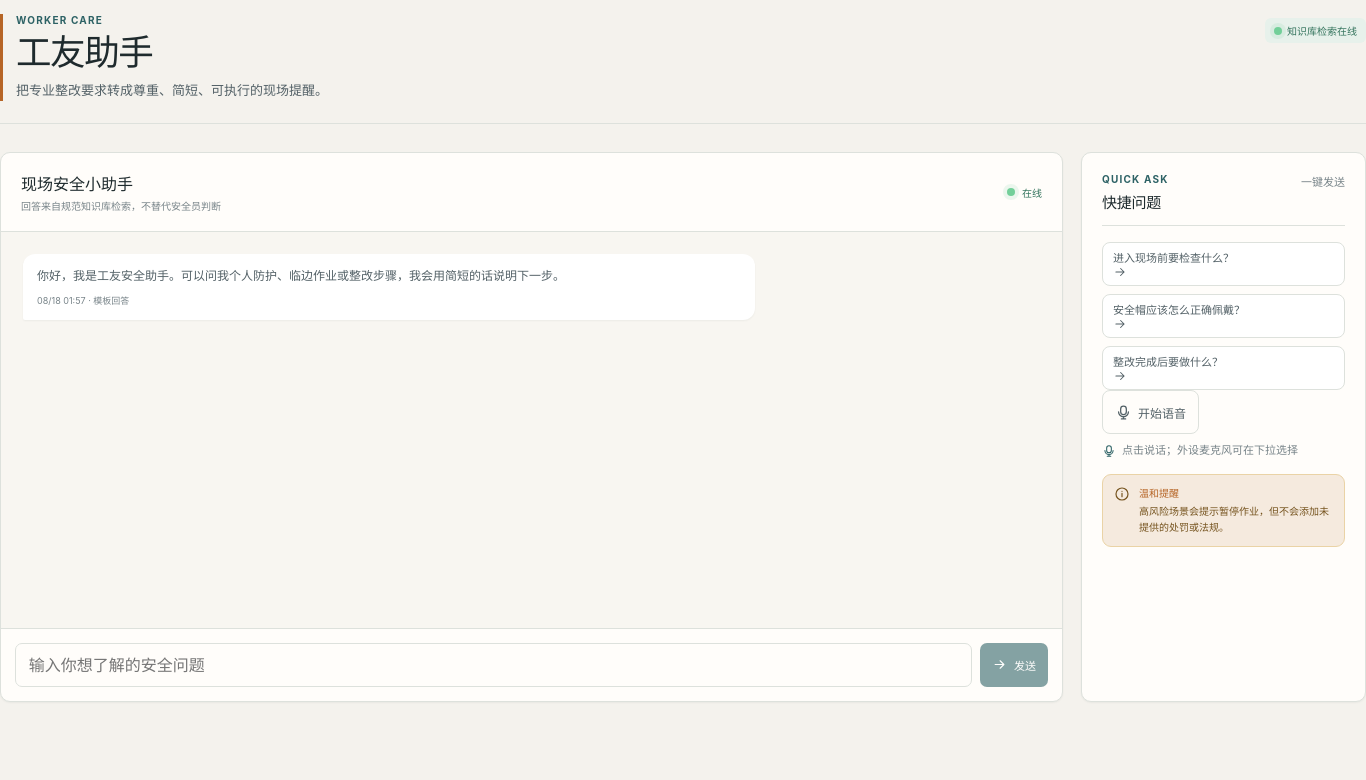
Test: WorkerCareView › uses browser Web Speech (zh-CN) and fills input with final transcript
The width and height of the screenshot is (1366, 780).
Click the button "开始语音": (1150, 412) [1102, 390, 1199, 434]
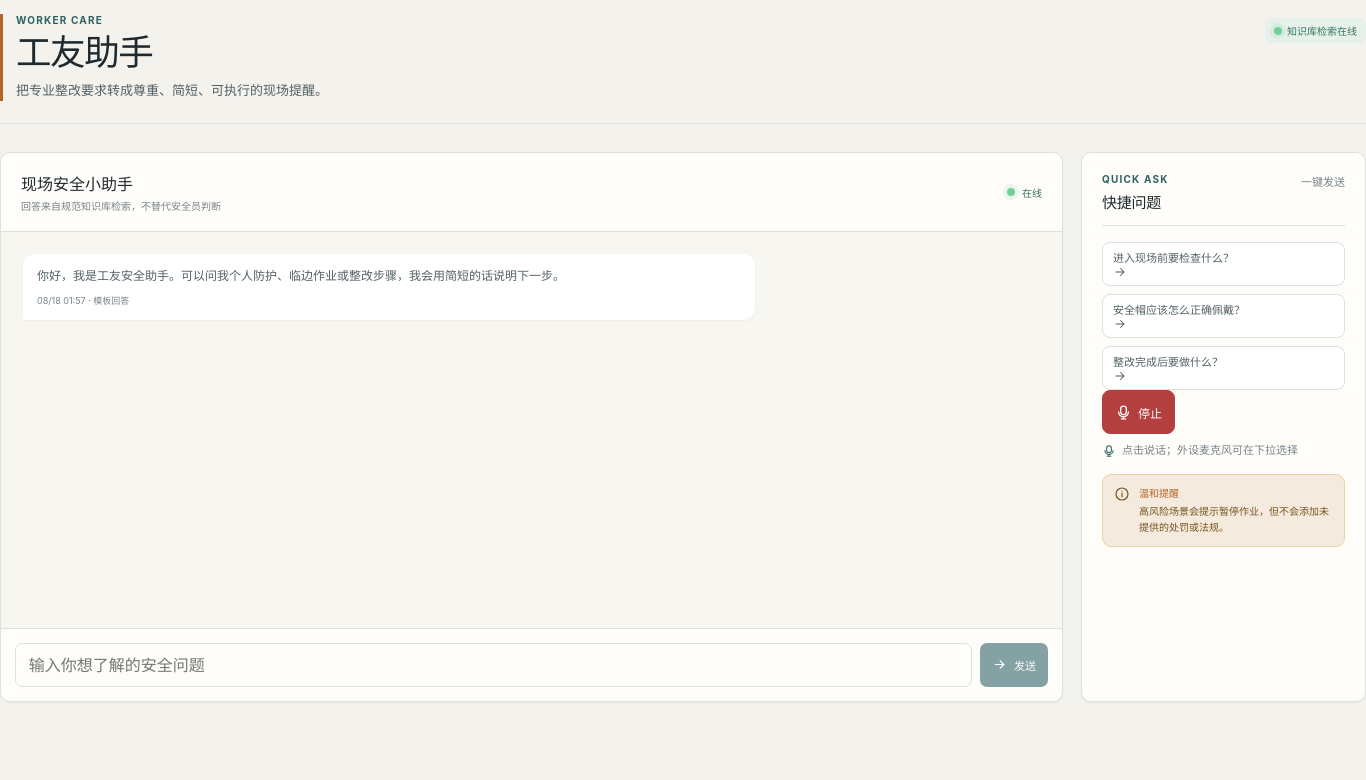
Click the button "停止": (1138, 412) [1102, 390, 1175, 434]
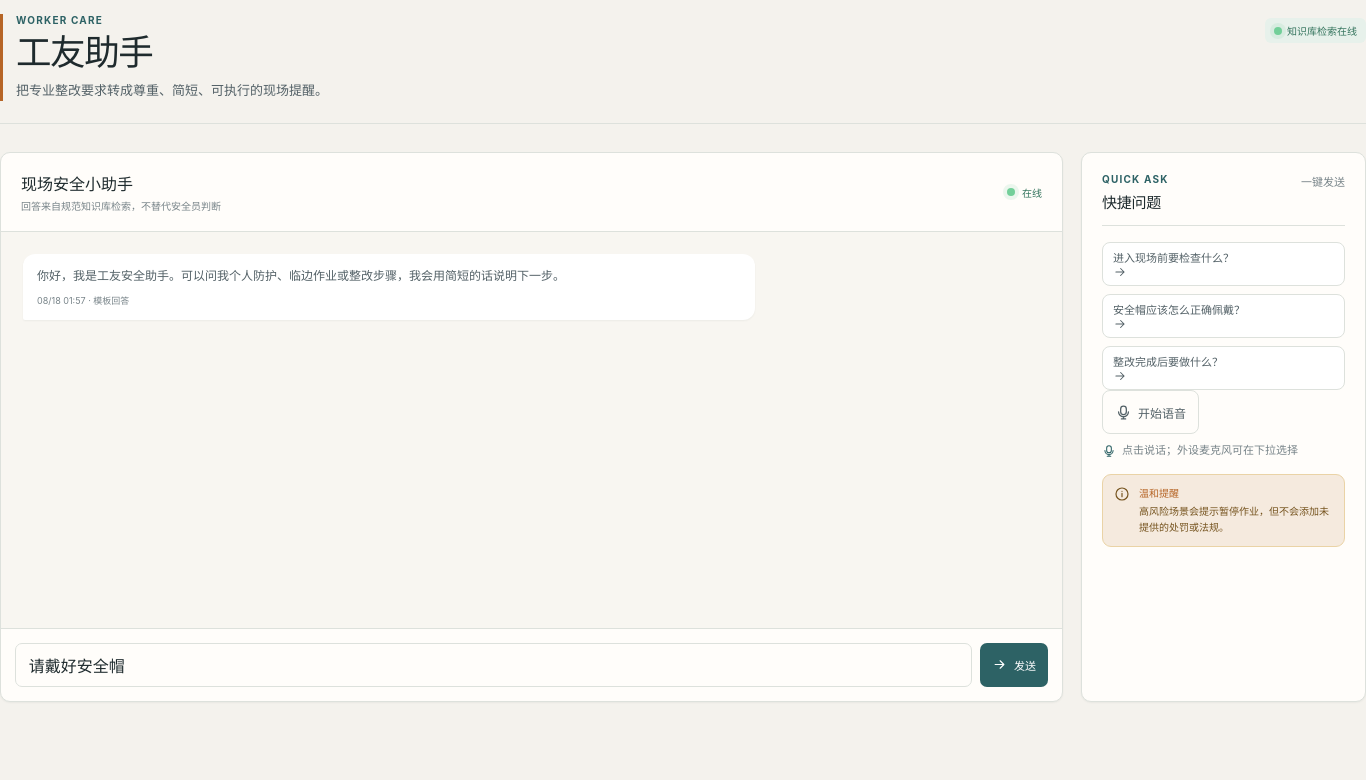
Expected: the field named "输入安全问题" holds "请戴好安全帽", [15, 643, 972, 687]
